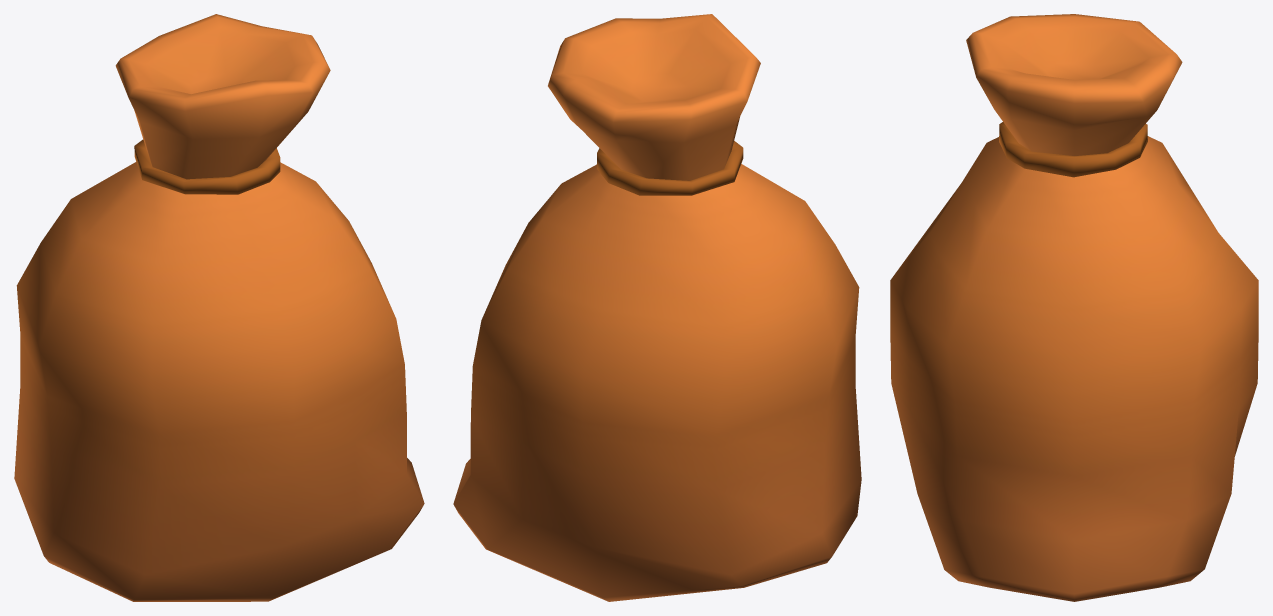
Rendered from Bag_01.fbx.
3 views of the same model, side by side, from view 1: azimuth 30°, elevation 25°; view 2: azimuth 150°, elevation 25°; view 3: azimuth 270°, elevation 25° (orthographic).
Visible parts, largest first — view 1: Bag_01; view 2: Bag_01; view 3: Bag_01.
Part boxes in pixels (x1=…): Bag_01: x1=14, y1=14, x2=424, y2=601; Bag_01: x1=453, y1=14, x2=861, y2=601; Bag_01: x1=890, y1=14, x2=1258, y2=601.
Size of the model in its own units: 63.01 by 81.16 by 53.72.
